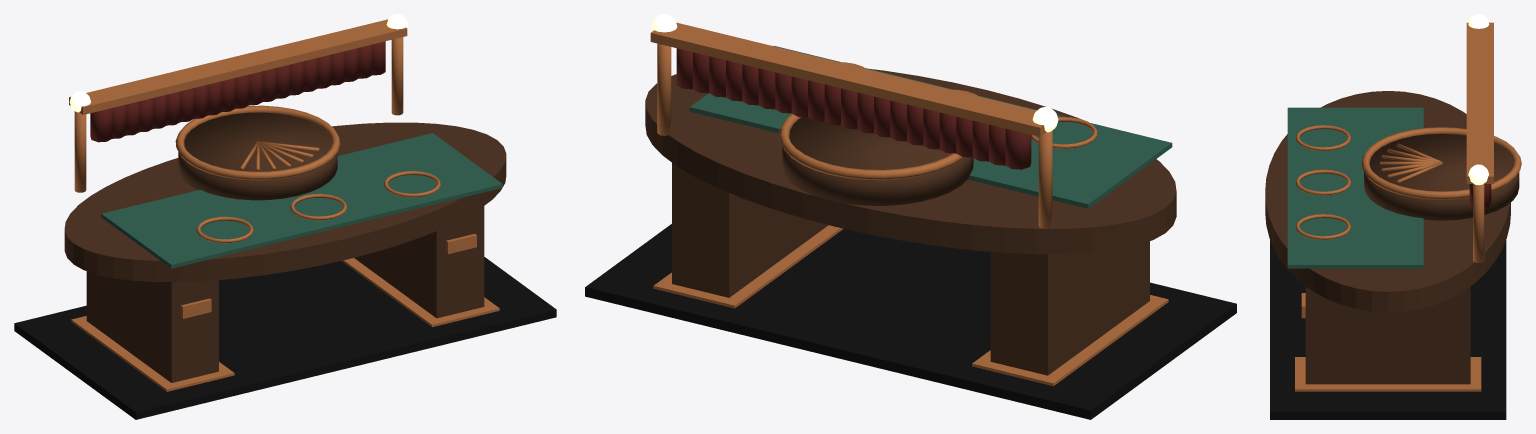
The model's file is encore_table.glb.
3 renders of one model, left to right at view 1: azimuth 30°, elevation 25°; view 2: azimuth 150°, elevation 25°; view 3: azimuth 270°, elevation 25°, orthographic. The views are drawn at different scales.
Parts seen in each view (by area): view 1: encore_table wood, encore_table rubber, encore_table felt, encore_table metal, encore_table carpet, encore_table lamp; view 2: encore_table wood, encore_table rubber, encore_table metal, encore_table carpet, encore_table felt, encore_table lamp; view 3: encore_table wood, encore_table felt, encore_table rubber, encore_table metal, encore_table lamp, encore_table carpet.
Part boxes in pixels (x1,y1,x2,y2): encore_table wood: (64,112,506,382); encore_table rubber: (14,257,556,419); encore_table felt: (101,133,502,268); encore_table metal: (69,19,499,391); encore_table carpet: (90,41,385,142); encore_table lamp: (69,14,407,112); encore_table wood: (645,69,1176,375); encore_table rubber: (585,224,1236,419); encore_table metal: (650,22,1168,386); encore_table carpet: (676,48,1031,169); encore_table felt: (689,46,1172,208); encore_table lamp: (651,14,1058,132); encore_table wood: (1265,91,1519,384); encore_table felt: (1287,107,1423,268); encore_table rubber: (1270,240,1506,419); encore_table metal: (1295,22,1521,391); encore_table lamp: (1468,14,1489,185); encore_table carpet: (1469,184,1491,208).
Size of what is drawn, in the model's own units: 2.94 by 1.57 by 1.59.
